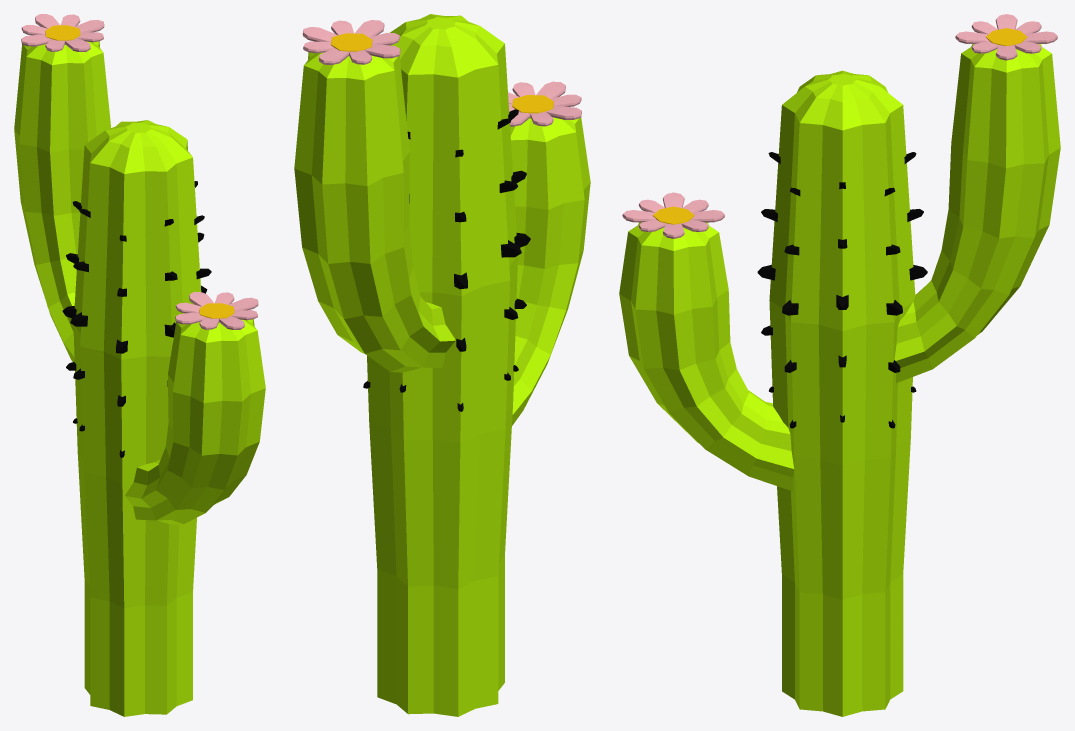
Rendered from Cardon01_02Brazos_Flor_Rosada.fbx.
3 renders of one model, left to right at view 1: azimuth 30°, elevation 25°; view 2: azimuth 150°, elevation 25°; view 3: azimuth 270°, elevation 25°, orthographic. The views are drawn at different scales.
Visible parts, largest first — view 1: Cactus, Flor_Rosada, Espinas; view 2: Cactus, Flor_Rosada, Espinas; view 3: Cactus, Flor_Rosada, Espinas.
Boxes of the visible parts, x1,y1,x2,y2 form: Cactus: [14, 41, 265, 716]; Flor_Rosada: [21, 14, 258, 329]; Espinas: [62, 181, 211, 457]; Cactus: [294, 14, 590, 716]; Flor_Rosada: [302, 20, 581, 126]; Espinas: [363, 109, 530, 411]; Cactus: [619, 44, 1060, 716]; Flor_Rosada: [622, 14, 1057, 238]; Espinas: [757, 152, 927, 428].
Size of the model in its own units: 53.18 by 226 by 138.
